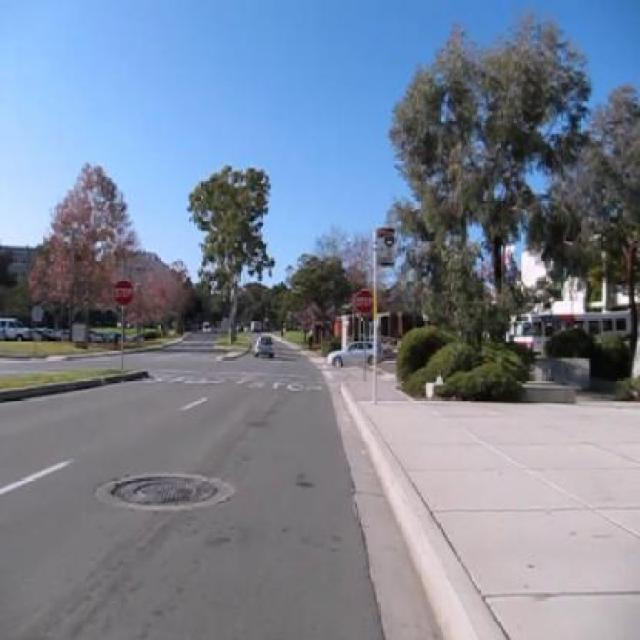stop: (112, 278, 136, 308), (352, 288, 375, 314)
